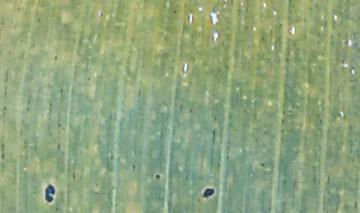tarspot: (44, 183, 56, 203), (203, 187, 215, 198), (155, 173, 162, 180)
